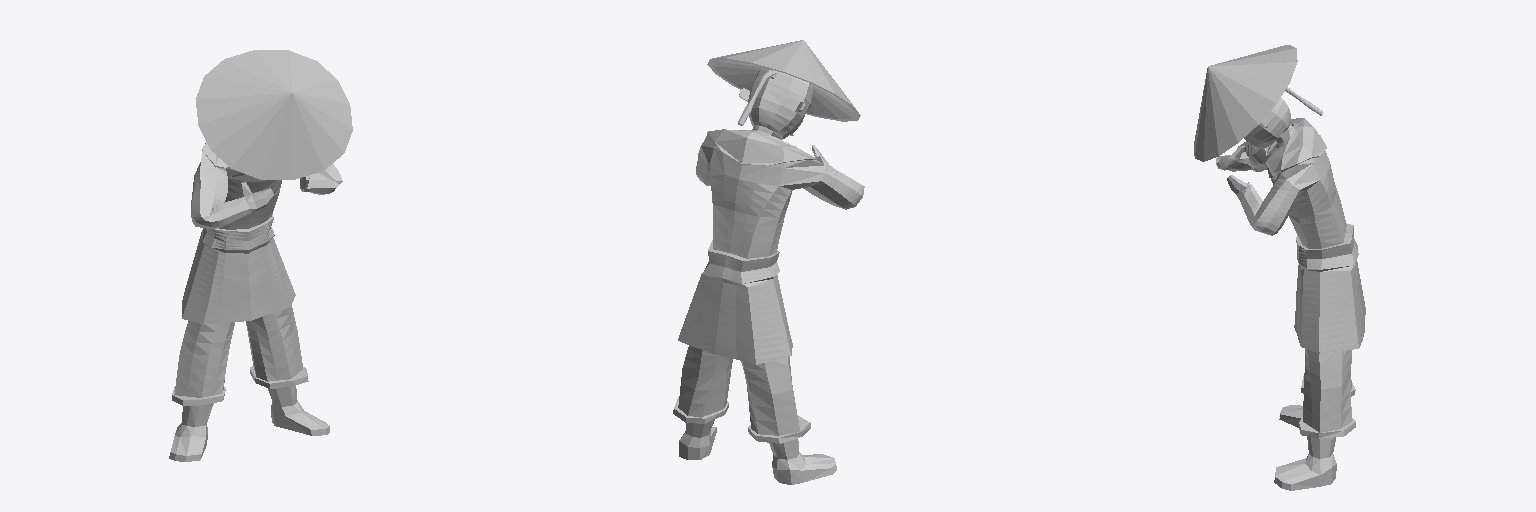
Rendered from ChinoCelebracion_000251.obj.
The picture shows the model from 3 angles: view 1: azimuth 30°, elevation 25°; view 2: azimuth 150°, elevation 25°; view 3: azimuth 270°, elevation 25°; orthographic projection.
Visible parts, largest first — view 1: Chino_ChinoH; view 2: Chino_ChinoH; view 3: Chino_ChinoH.
Boxes of the visible parts, box(x1,y1,x2,y2) form: Chino_ChinoH: box(169, 50, 352, 461); Chino_ChinoH: box(673, 40, 864, 484); Chino_ChinoH: box(1194, 45, 1365, 490).
Bounding box in the file's own units: 3.27 × 7.92 × 3.13.